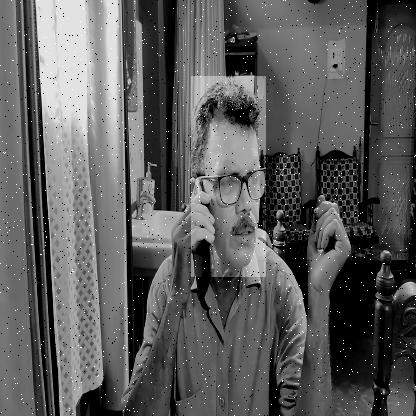Distracted: (191, 76, 266, 277)
